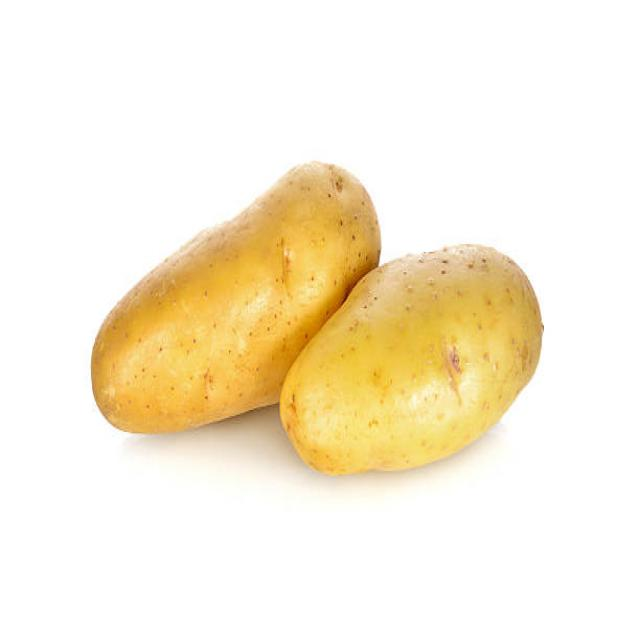Potato: (278, 236, 546, 495), (91, 190, 278, 456)
